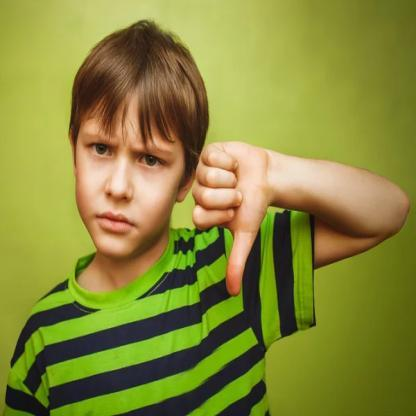thumb_down: (190, 139, 276, 301)
